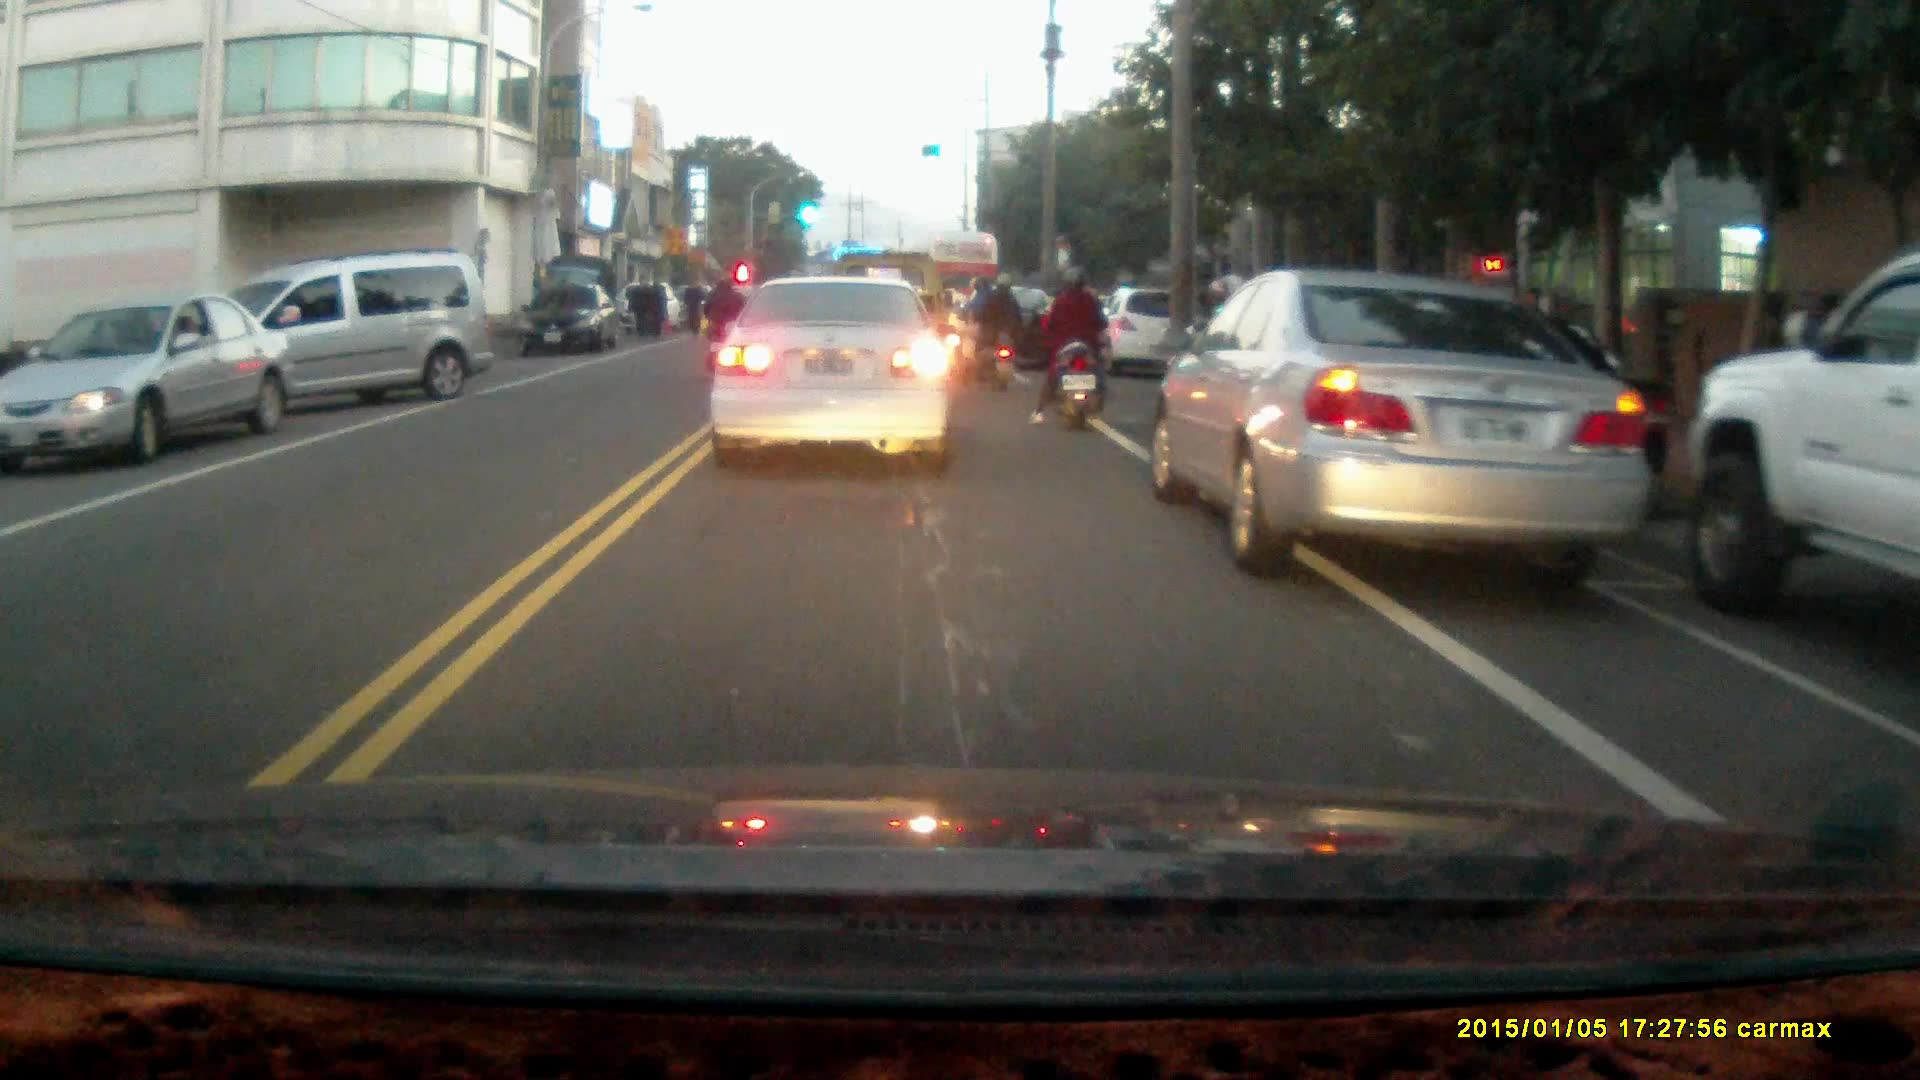pedestrian: (679, 274, 707, 337), (626, 271, 652, 339), (644, 270, 664, 344)
rider: (1025, 264, 1114, 433), (955, 268, 1024, 390), (702, 269, 746, 378)
vehicle: (1145, 263, 1643, 578), (1681, 255, 1920, 620), (176, 252, 499, 429), (1, 294, 291, 474), (706, 274, 957, 474), (520, 281, 620, 357)
